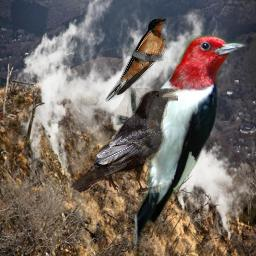Crow: (69, 88, 178, 193)
Swallow: (103, 16, 169, 102)
Woodpecker: (114, 35, 249, 249)
